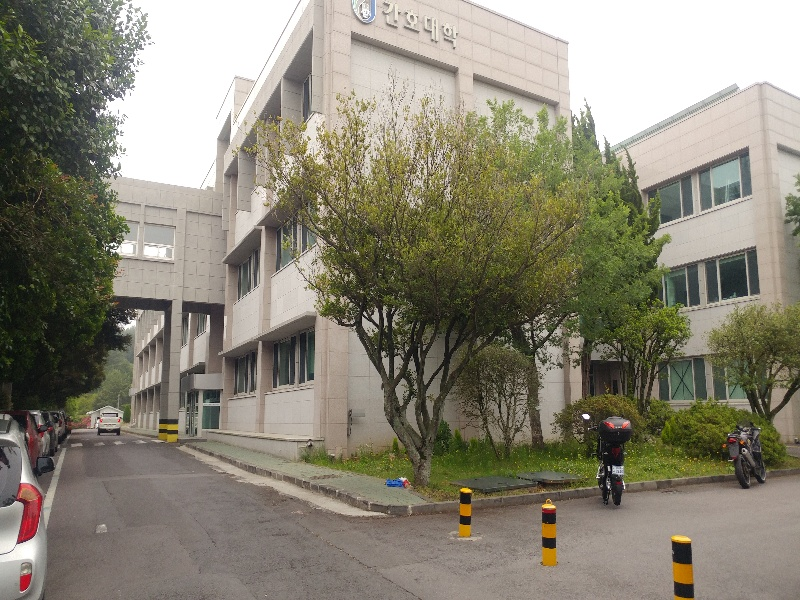College of Nursing: (193, 22, 581, 441), (381, 1, 482, 71)
Cultural lecture hall: (595, 62, 800, 405)
